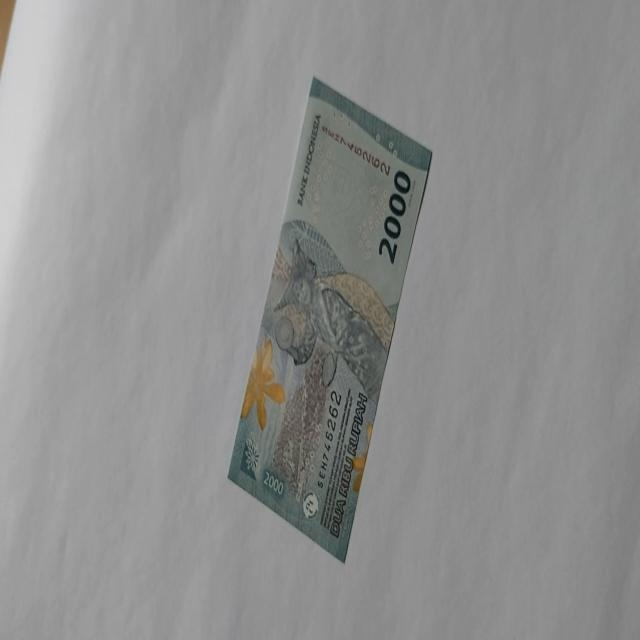dua ribu rupiah: (226, 75, 434, 562), (272, 230, 394, 398)
